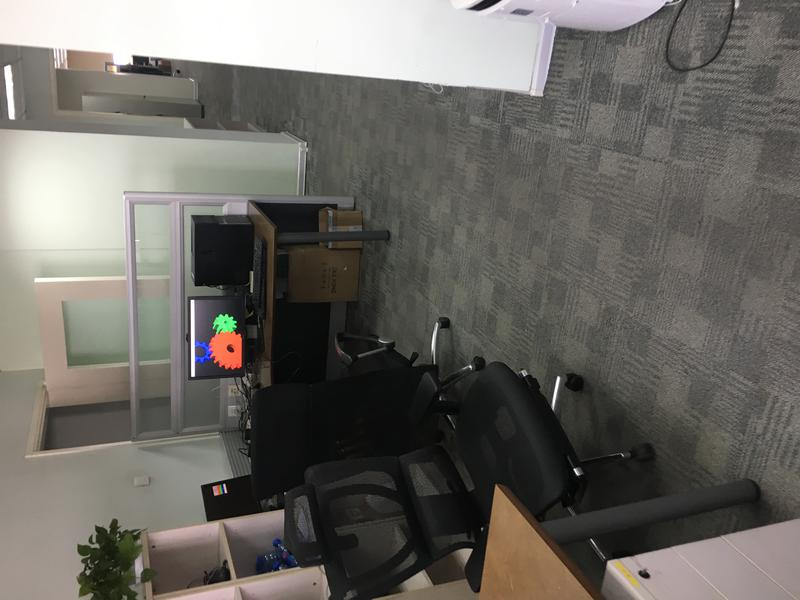glxgears_pass: (195, 312, 243, 374)
